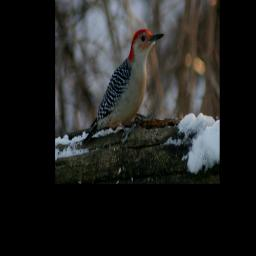Woodpecker: (83, 29, 166, 144)
